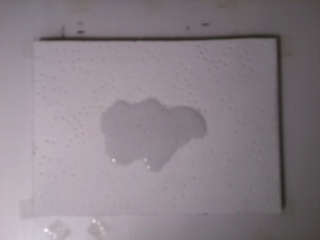Water_detected: (107, 102, 198, 160)
